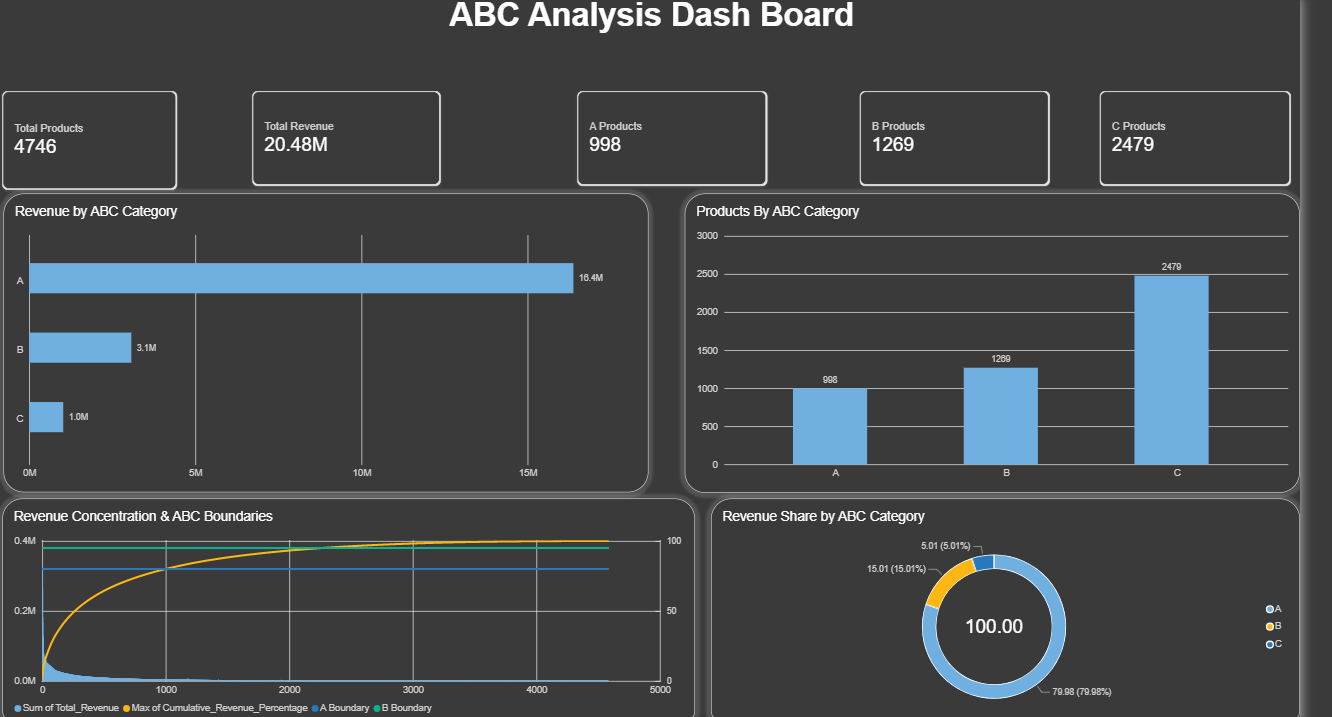

This screenshot's page, from the dashboard's own definition file:
{"tool":"powerbi","page":{"name":"DashBoard","canvas":[1920,1080],"ordinal":0},"visuals":[{"type":"cardVisual","fields":{"Data":["abc_analysis abc_analysis.Total Products"]},"box":[9.2,139.9,257.7,145.4],"z":0},{"type":"cardVisual","fields":{"Data":["abc_analysis abc_analysis.A Products"]},"box":[855.8,139.9,279.8,139.9],"z":1000},{"type":"cardVisual","fields":{"Data":["abc_analysis abc_analysis.B Products"]},"box":[1271.8,139.9,279.8,139.9],"z":2000},{"type":"cardVisual","fields":{"Data":["abc_analysis abc_analysis.Total Revenue"]},"box":[377.3,139.9,277.9,139.9],"z":3000},{"type":"cardVisual","fields":{"Data":["abc_analysis abc_analysis.C Products"]},"box":[1625.2,139.9,281.6,139.9],"z":4000},{"type":"barChart","title":"Revenue by ABC Category","fields":{"Y":["Sum(abc_analysis abc_analysis.Total_Revenue)"],"Category":["abc_analysis abc_analysis.ABC_Category"]},"box":[11,290.8,949.7,439.9],"z":5000},{"type":"clusteredColumnChart","title":"Products By ABC Category","fields":{"Category":["abc_analysis abc_analysis.ABC_Category"],"Y":["abc_analysis abc_analysis.Total Products"]},"box":[1014.8,290.2,905.7,440.5],"z":6000},{"type":"lineClusteredColumnComboChart","title":"Revenue Concentration & ABC Boundaries","fields":{"Category":["abc_analysis abc_analysis.Product Rank"],"Y":["Sum(abc_analysis abc_analysis.Total_Revenue)"],"Y2":["Max(abc_analysis abc_analysis.Cumulative_Revenue_Percentage)","abc_analysis abc_analysis.A Boundary","abc_analysis abc_analysis.B Boundary"]},"box":[9.2,739.9,1019.6,340.5],"z":7000},{"type":"donutChart","title":"Revenue Share by ABC Category","fields":{"Category":["abc_analysis abc_analysis.ABC_Category"],"Y":["abc_analysis abc_analysis.Revenue %"]},"box":[1052.8,739.9,866.9,340.5],"z":8000},{"type":"textbox","box":[11,0,1908.6,116],"z":8001}]}

Visuals, with their boxes on the page's 1920x1080 design canvas (x1, y1, x2, y2). These are canvas units, not pixel positions in the 1332x717 screenshot, which may show the page scaled, cropped or inside an application window:
cardVisual - abc_analysis abc_analysis.Total Products: region(9, 140, 267, 285)
cardVisual - abc_analysis abc_analysis.A Products: region(856, 140, 1136, 280)
cardVisual - abc_analysis abc_analysis.B Products: region(1272, 140, 1552, 280)
cardVisual - abc_analysis abc_analysis.Total Revenue: region(377, 140, 655, 280)
cardVisual - abc_analysis abc_analysis.C Products: region(1625, 140, 1907, 280)
"Revenue by ABC Category" barChart: region(11, 291, 961, 731)
"Products By ABC Category" clusteredColumnChart: region(1015, 290, 1920, 731)
"Revenue Concentration & ABC Boundaries" lineClusteredColumnComboChart: region(9, 740, 1029, 1080)
"Revenue Share by ABC Category" donutChart: region(1053, 740, 1920, 1080)
textbox: region(11, 0, 1920, 116)
